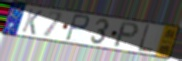3: (90, 18, 112, 46)
7: (42, 10, 64, 39)
K: (20, 8, 44, 37)
L: (136, 24, 154, 55)
P: (111, 21, 141, 49), (64, 13, 91, 43)
